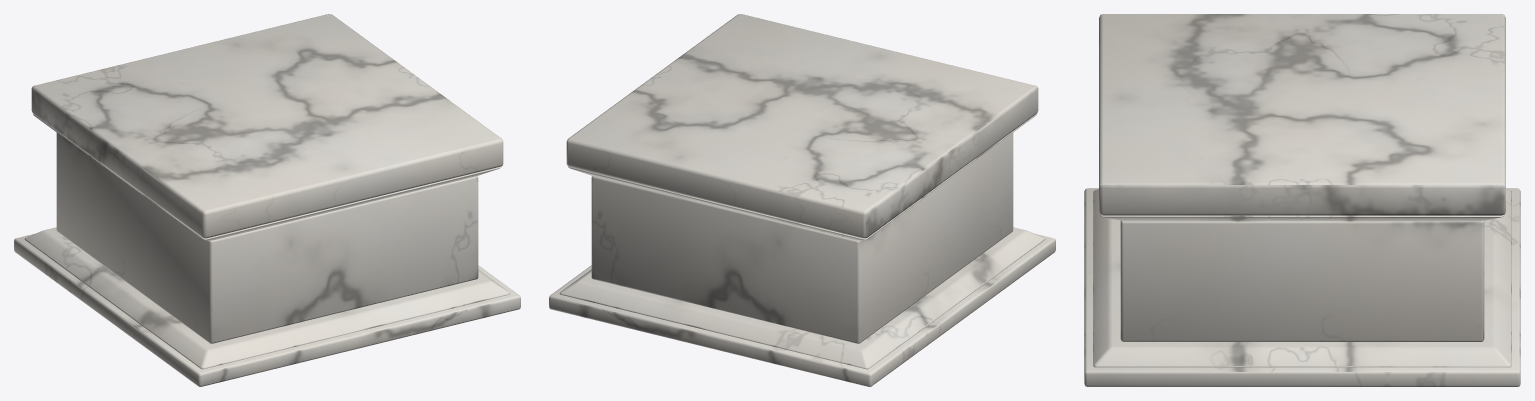
Rendered from plinth.glb.
The picture shows the model from 3 angles, left to right: view 1: azimuth 30°, elevation 25°; view 2: azimuth 150°, elevation 25°; view 3: azimuth 270°, elevation 25°; orthographic projection. The views are drawn at different scales.
Parts seen in each view (by area): view 1: PlinthBase, PlinthCap; view 2: PlinthBase, PlinthCap; view 3: PlinthCap, PlinthBase.
Part boxes in pixels (x1,y1,x2,y2): PlinthBase: [14, 114, 520, 386]; PlinthCap: [31, 14, 503, 238]; PlinthBase: [549, 114, 1055, 386]; PlinthCap: [566, 14, 1038, 238]; PlinthCap: [1099, 14, 1505, 215]; PlinthBase: [1084, 188, 1520, 386].
Size of the model in its own units: 1.2 by 0.6 by 1.2.
Materials: 1 (1 with a texture image).
